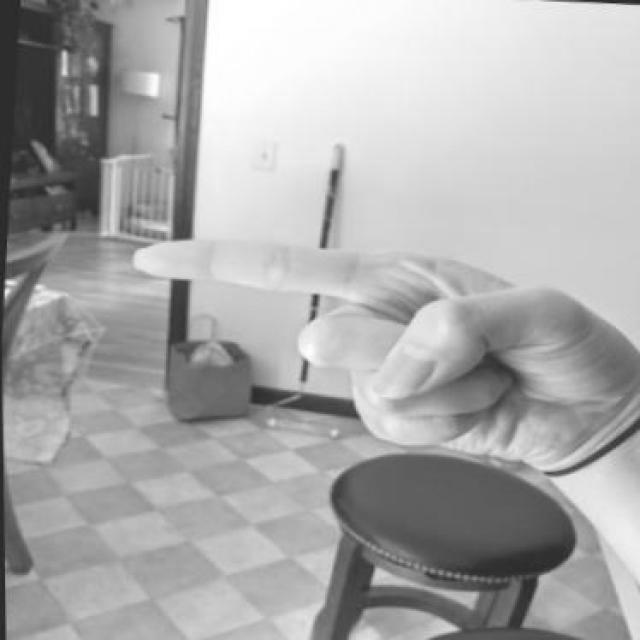G: (109, 220, 639, 487)
